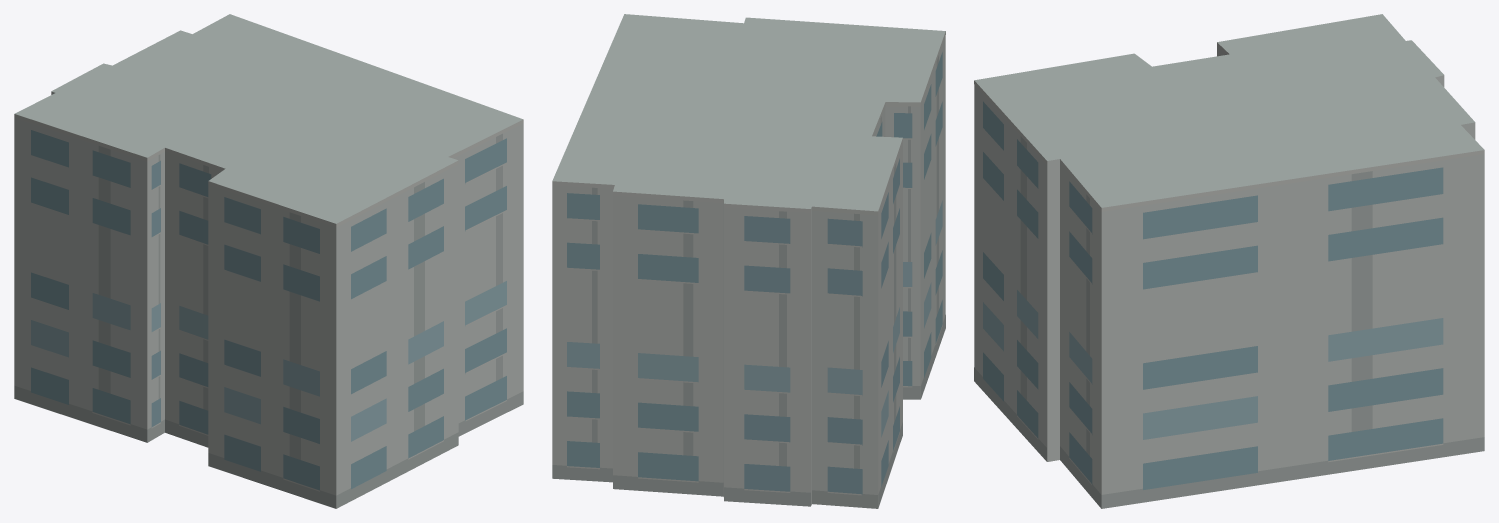
The model's file is survey-upis-32848802.glb.
The picture shows the model from 3 angles, left to right: view 1: azimuth 30°, elevation 25°; view 2: azimuth 150°, elevation 25°; view 3: azimuth 270°, elevation 25°; orthographic projection. The views are drawn at different scales.
Parts seen in each view (by area): view 1: survey-upis-32848802.tmp; view 2: survey-upis-32848802.tmp; view 3: survey-upis-32848802.tmp.
Part boxes in pixels (x1,y1,x2,y2): survey-upis-32848802.tmp: (14, 14, 523, 508); survey-upis-32848802.tmp: (552, 14, 945, 508); survey-upis-32848802.tmp: (974, 14, 1484, 508).
Size of the model in its own units: 24.6 by 17.8 by 27.37.
